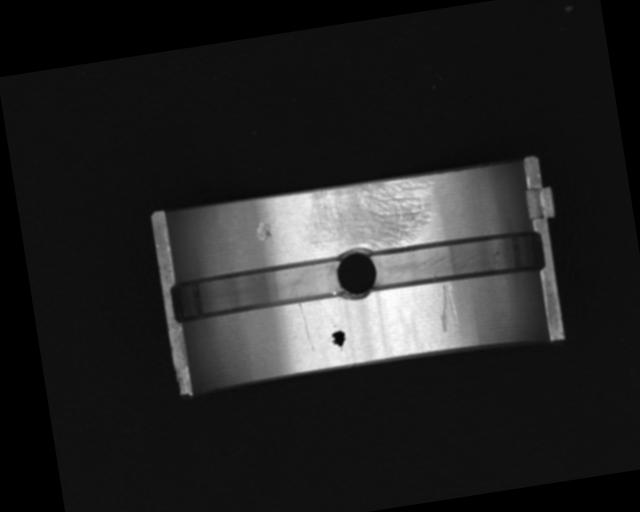blot: (329, 328, 349, 353)
bruise: (255, 219, 272, 240)
gap: (370, 226, 547, 294), (169, 256, 345, 324)
hole: (332, 246, 381, 304)
nick: (433, 283, 462, 334), (298, 302, 314, 350)
scratch: (298, 173, 442, 258)
